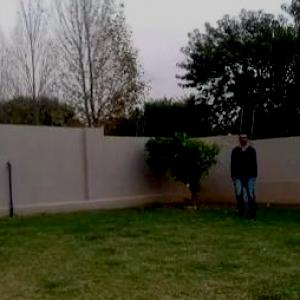follow: (234, 131, 256, 222)
